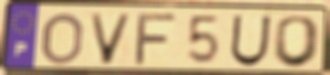5: (186, 14, 221, 67)
F: (132, 12, 181, 68)
O: (271, 14, 324, 69), (39, 11, 85, 67)
U: (228, 14, 274, 68)
V: (87, 12, 135, 67)
